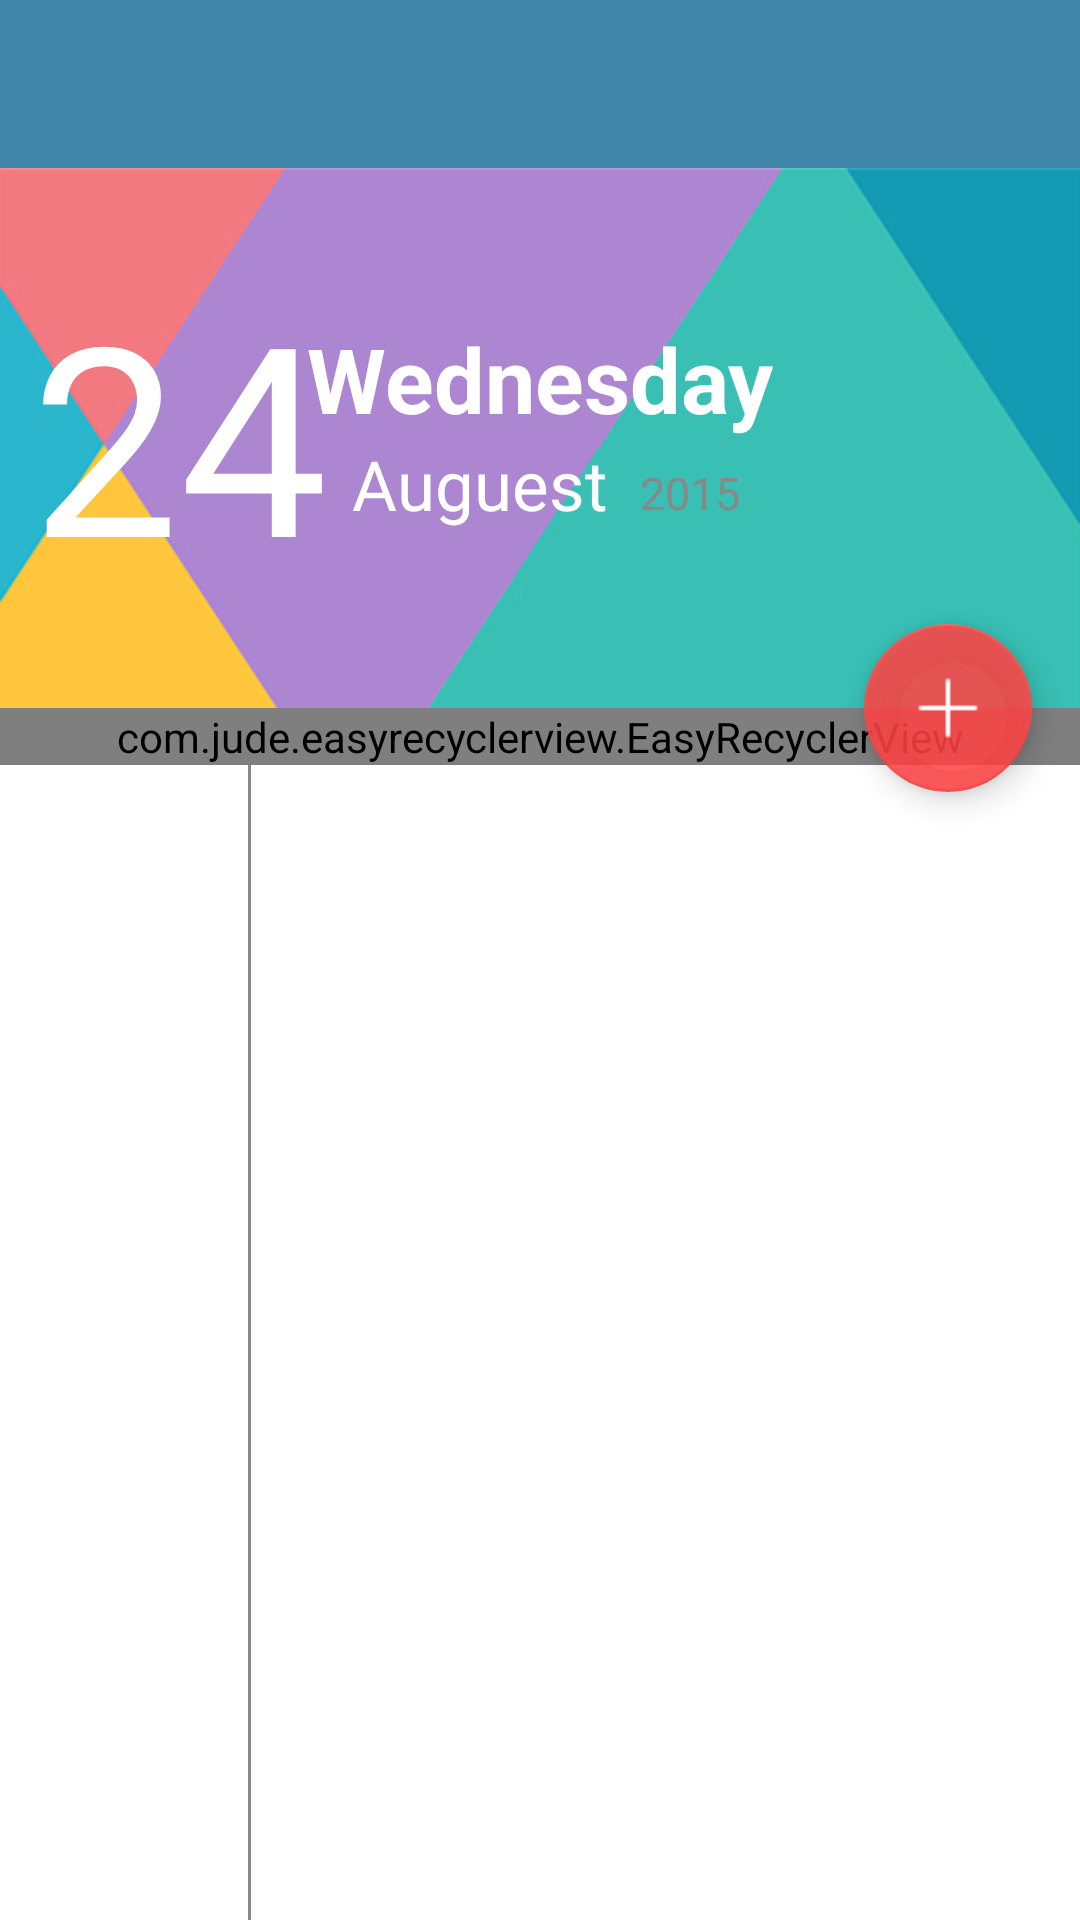

Screen size 1080 x 1920. Icon name, then its center in pixels as (x,y):
add: (948,708)
